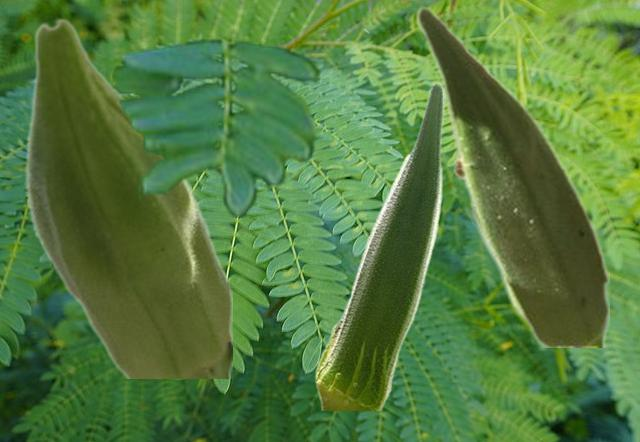okra: (24, 17, 231, 377), (415, 4, 608, 346), (314, 80, 444, 409)
